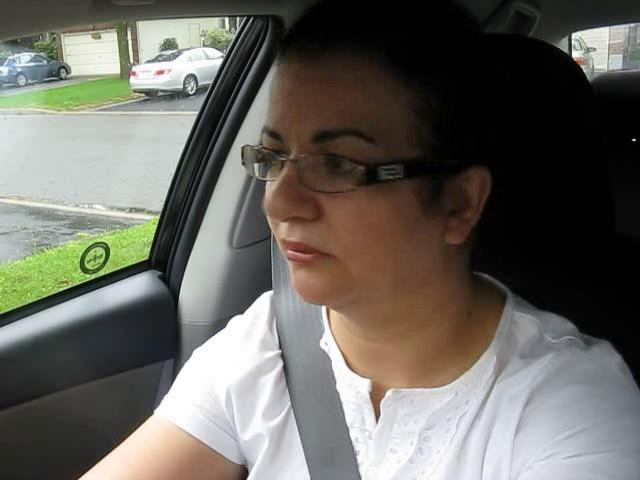no_yawn: (268, 226, 345, 275)
open_eyeL: (249, 141, 296, 179)
open_eyeR: (305, 144, 376, 193)
